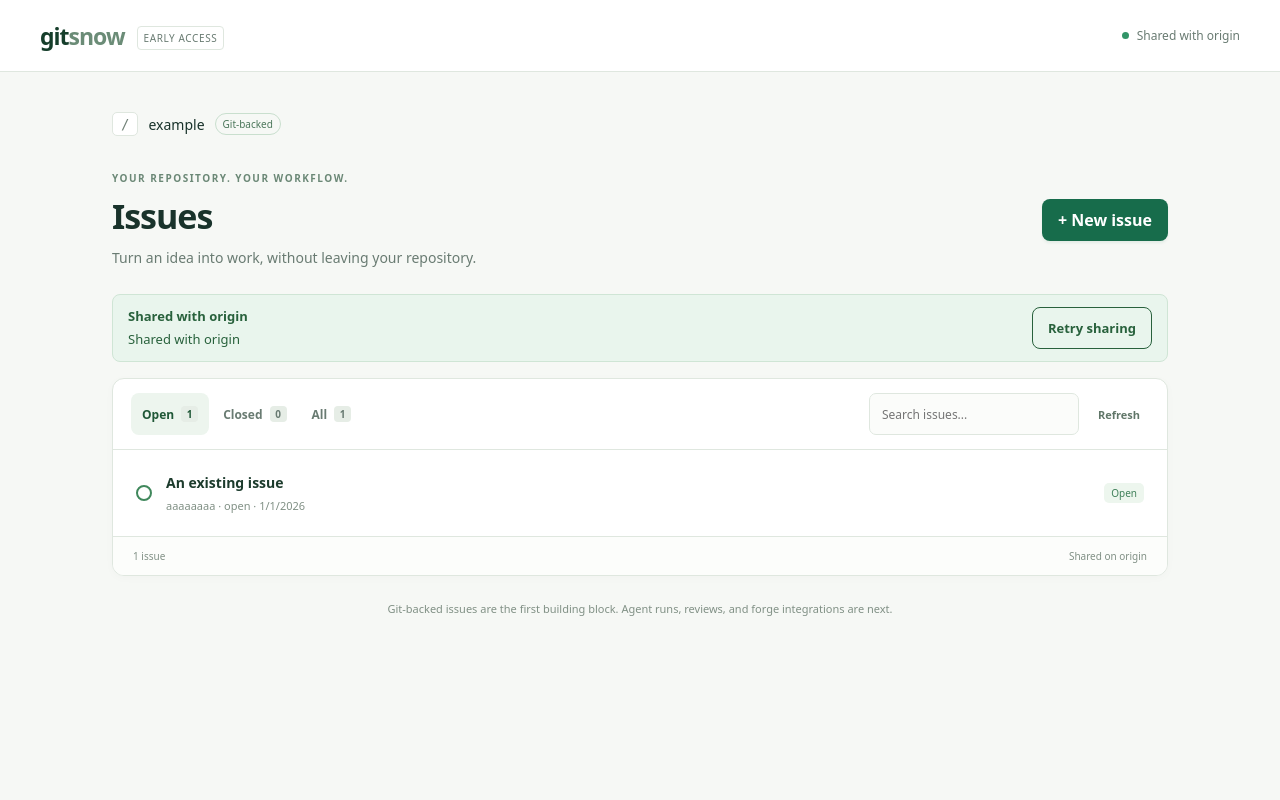
Test case: issue workflow › distinguishes confirmed local saves from remote sharing, including in the browser cache
Click the button "An existing issue": (225, 483) [113,450,1167,536]
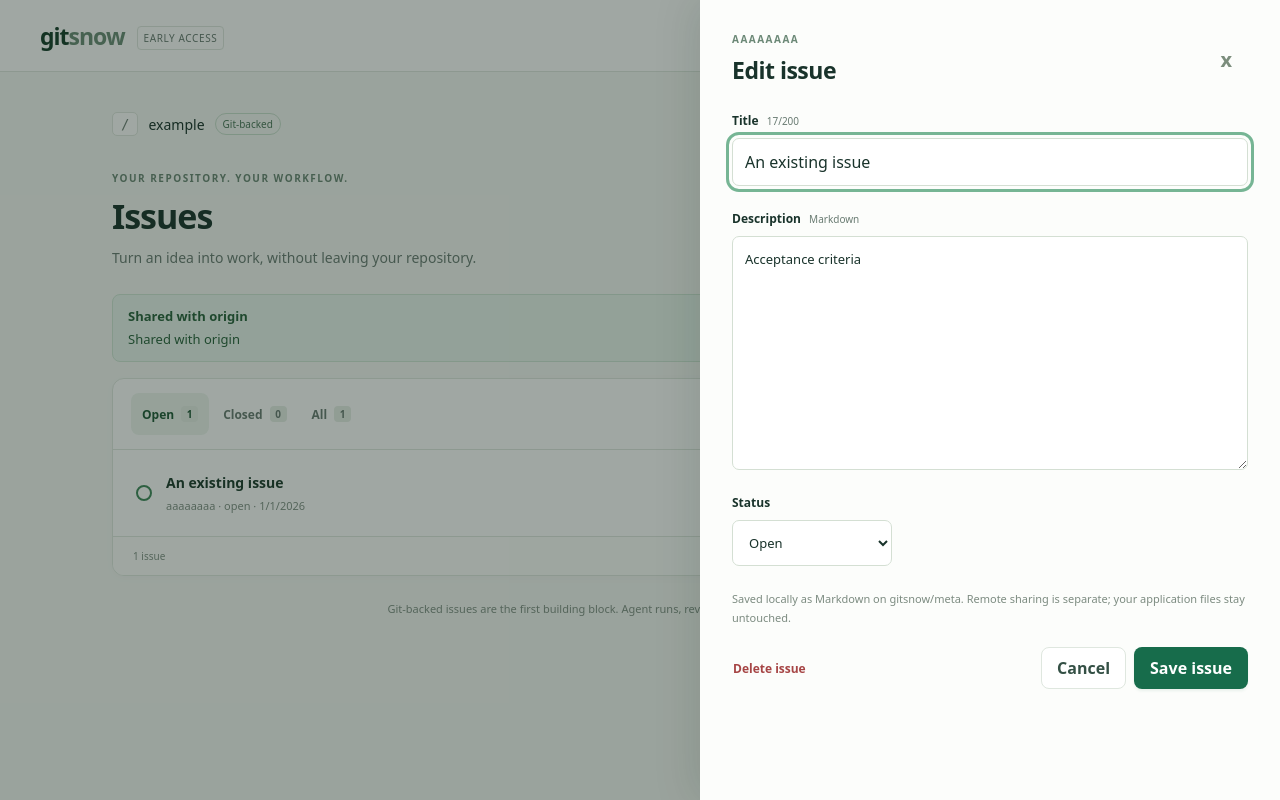
Replace the text in the field labelled "Title 17/200" with "Not published yet": (990, 162) [732,138,1248,186]
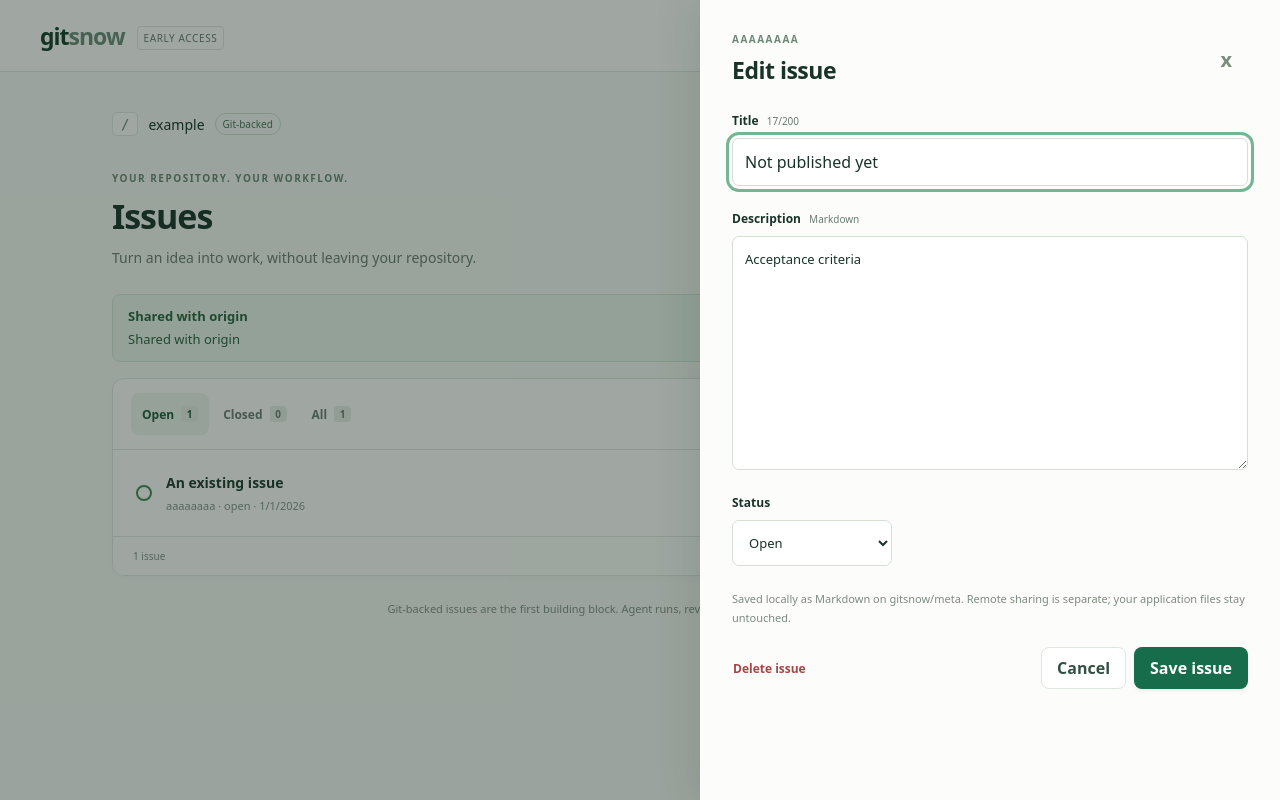
Click the button "Save issue": (1191, 668) [1134,647,1248,689]
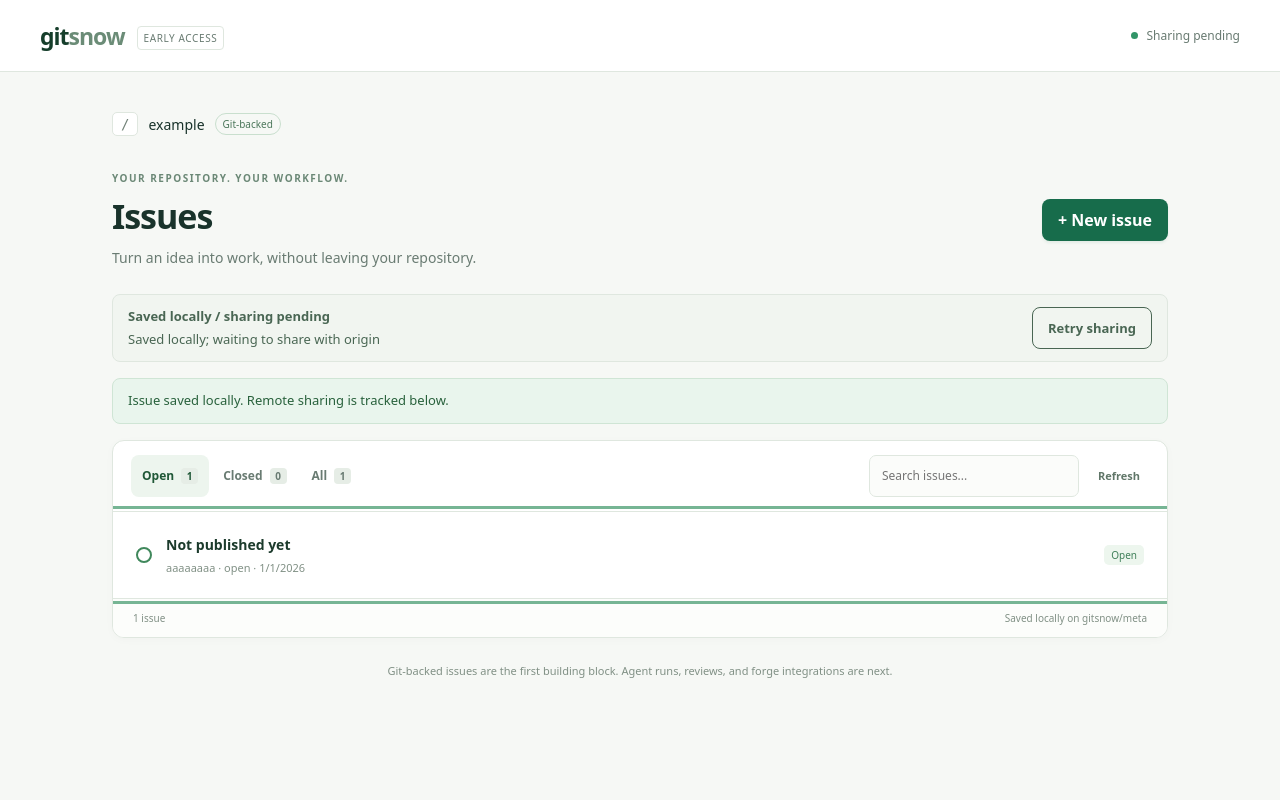
Expected: the text "Issue saved locally. Remote sharing is tracked below." is shown, [112,378,1168,424]
Expected: the text "Sharing pending" is shown, [1132,27,1240,44]
Expected: the text "Shared with origin" is gone
